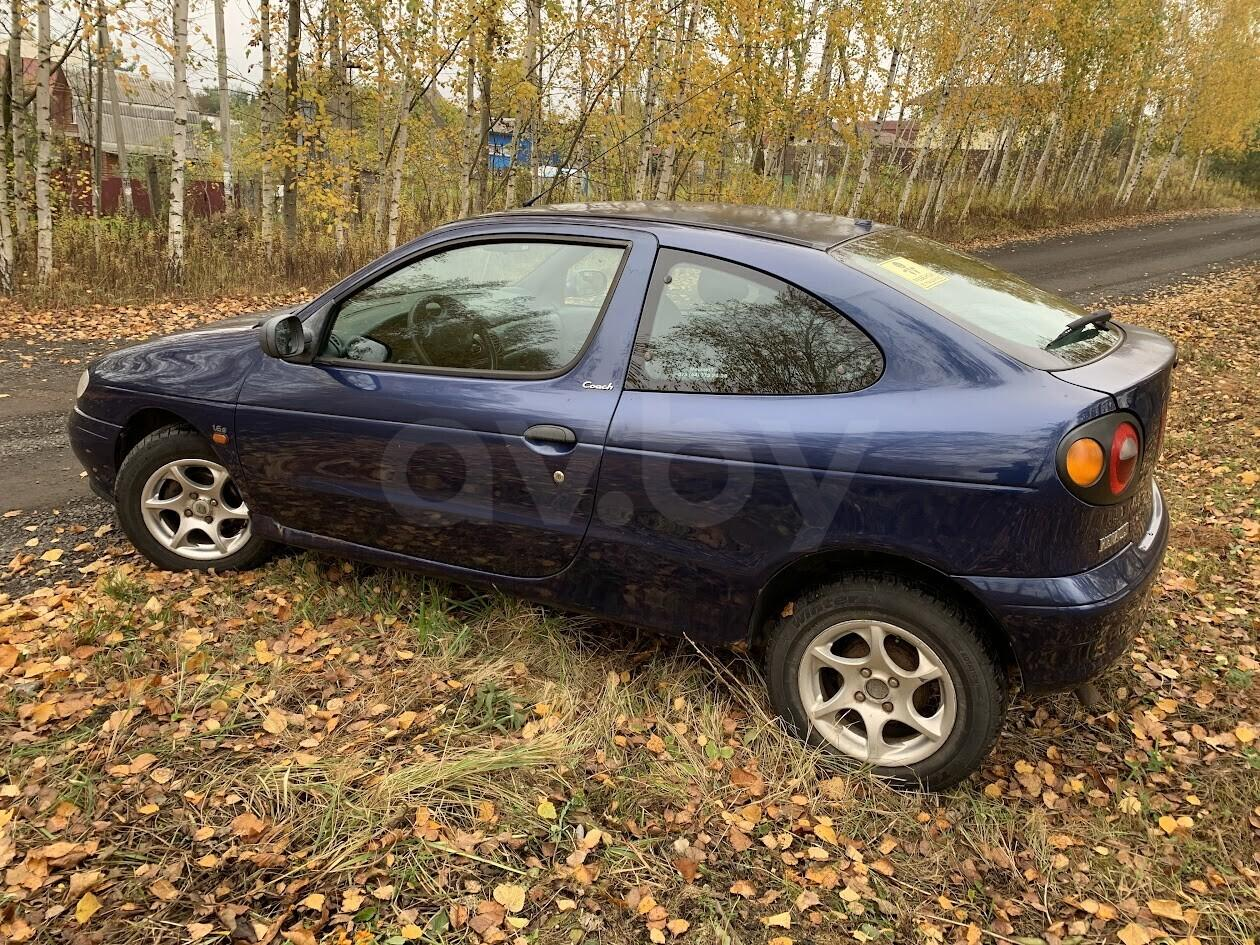Megane_1995-1999: (55, 191, 1174, 806)
